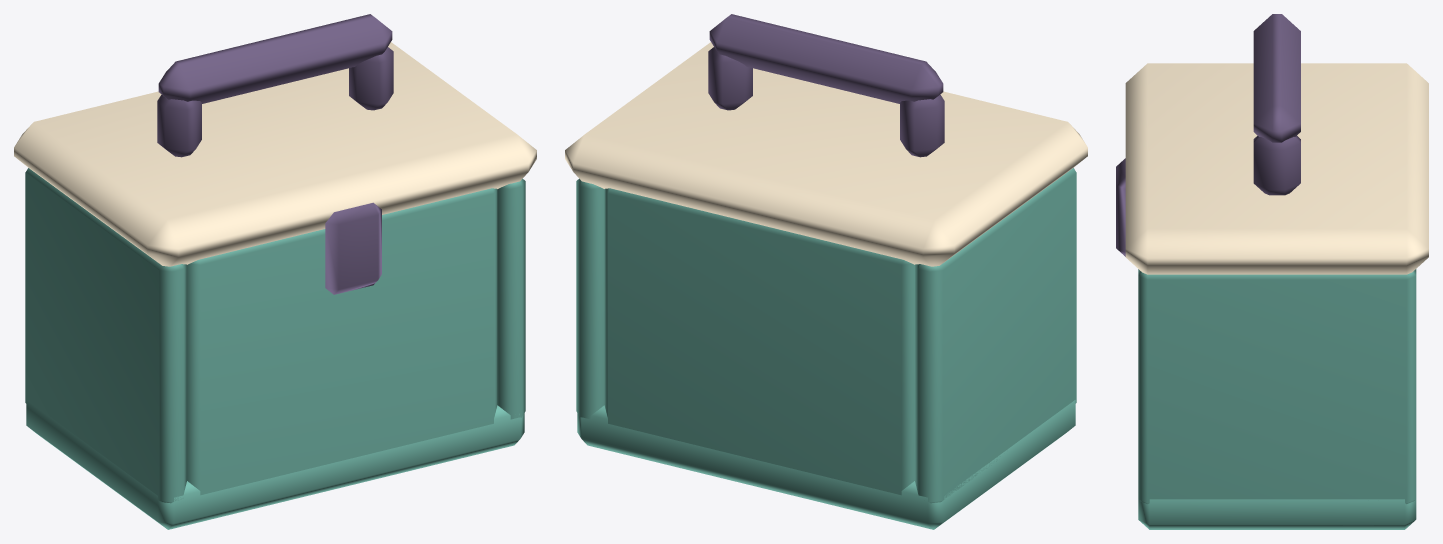
File: Delivery_cooler.fbx
3 views of the same model, side by side, from view 1: azimuth 30°, elevation 25°; view 2: azimuth 150°, elevation 25°; view 3: azimuth 270°, elevation 25° (orthographic). The views are drawn at different scales.
Visible parts, largest first — view 1: Toon_Delivery_cooler Delivery_Cooler_Mesh.001, LidPart_Toon_Delivery_cooler Cooler_Lid_HINGE_Mesh; view 2: Toon_Delivery_cooler Delivery_Cooler_Mesh.001, LidPart_Toon_Delivery_cooler Cooler_Lid_HINGE_Mesh; view 3: Toon_Delivery_cooler Delivery_Cooler_Mesh.001, LidPart_Toon_Delivery_cooler Cooler_Lid_HINGE_Mesh.
Part boxes in pixels (box(x1,y1,x2,y2)): Toon_Delivery_cooler Delivery_Cooler_Mesh.001: box(25, 168, 525, 529); LidPart_Toon_Delivery_cooler Cooler_Lid_HINGE_Mesh: box(14, 14, 536, 266); Toon_Delivery_cooler Delivery_Cooler_Mesh.001: box(576, 168, 1076, 529); LidPart_Toon_Delivery_cooler Cooler_Lid_HINGE_Mesh: box(565, 14, 1087, 266); Toon_Delivery_cooler Delivery_Cooler_Mesh.001: box(1116, 158, 1416, 529); LidPart_Toon_Delivery_cooler Cooler_Lid_HINGE_Mesh: box(1125, 14, 1428, 274).
Bounding box in the file's own units: 69 × 67.75 × 49.5.
